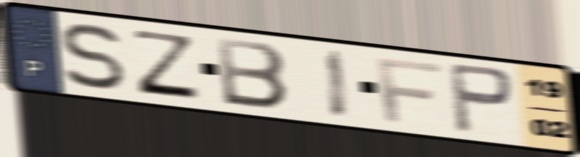B: (213, 35, 291, 113)
F: (373, 55, 445, 126)
I: (324, 46, 352, 122)
P: (446, 60, 518, 137)
S: (59, 21, 128, 93)
Z: (131, 27, 204, 103)
